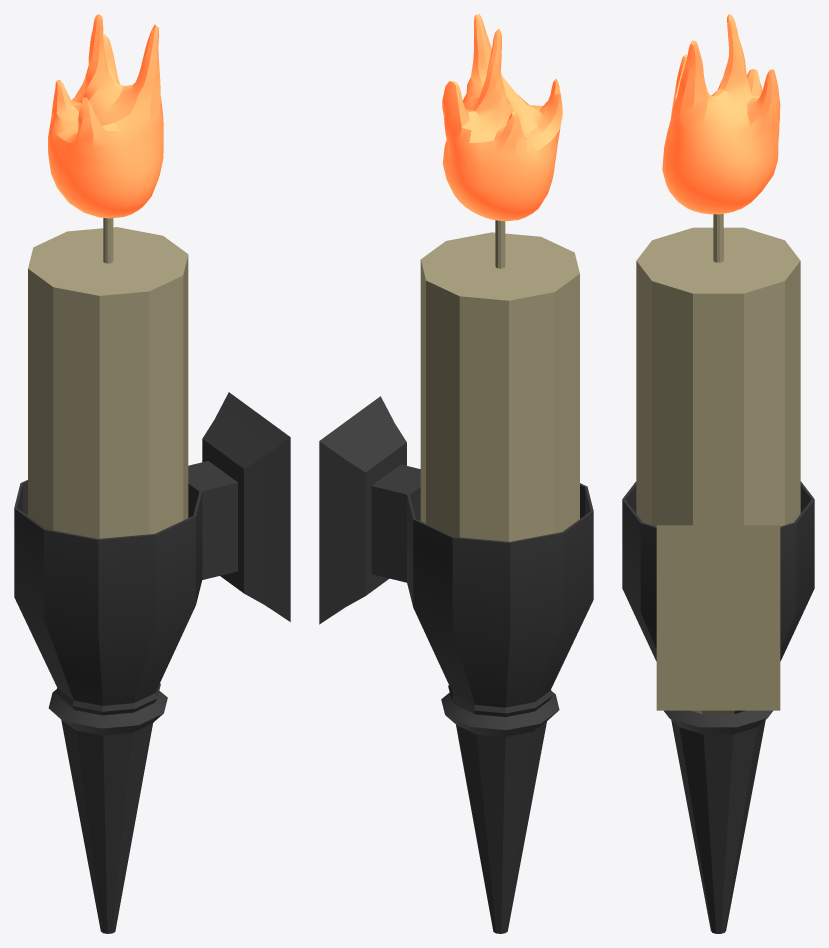
The model's file is Lamp Small.fbx.
3 renders of one model, left to right at view 1: azimuth 30°, elevation 25°; view 2: azimuth 150°, elevation 25°; view 3: azimuth 270°, elevation 25°, orthographic.
Visible parts, largest first — view 1: Candle 5.006; view 2: Candle 5.006; view 3: Candle 5.006.
Part boxes in pixels (x1,y1,x2,y2): Candle 5.006: [14, 14, 290, 933]; Candle 5.006: [319, 14, 593, 933]; Candle 5.006: [622, 14, 814, 933].
Size of the model in its own units: 38.86 by 147 by 28.04.
